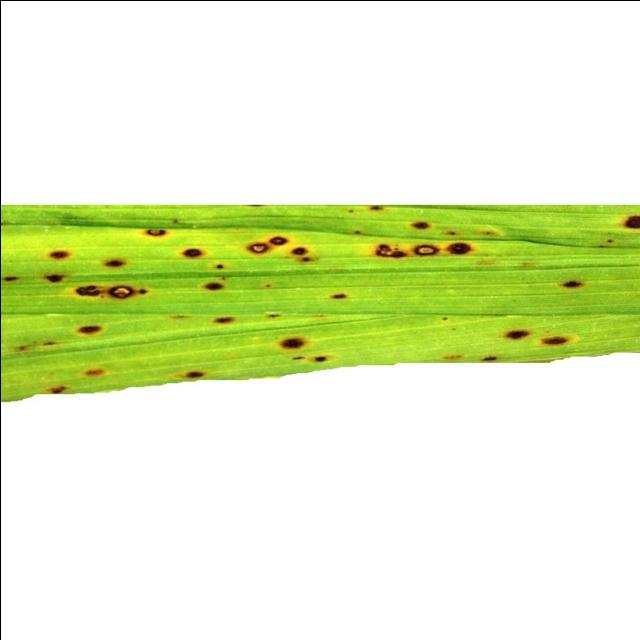Brown spot: (0, 194, 640, 404)
